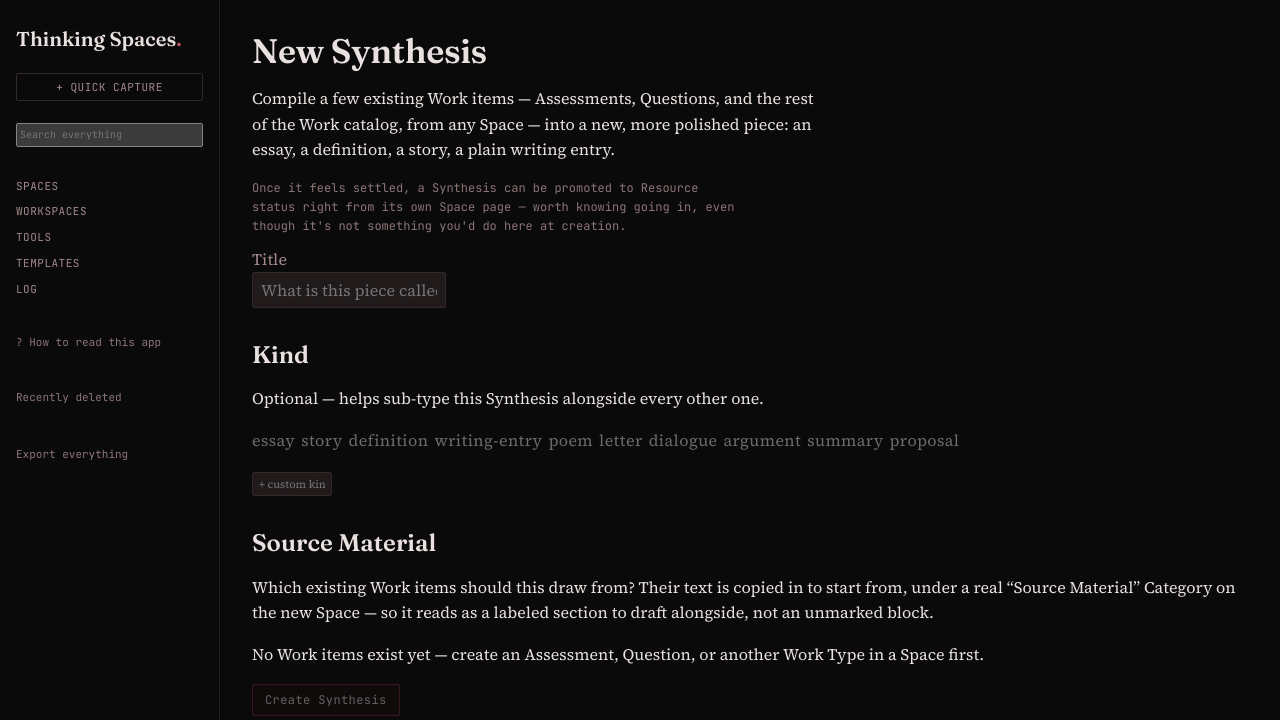
Test: CreateSynthesis: submitting › disables submit until a title is entered
Check: the button "Create Synthesis" is disabled, box [252,684,400,716]
Type "My Piece" into the field with placeholder "What is this piece called?" at (349, 290), box [252,272,446,308]
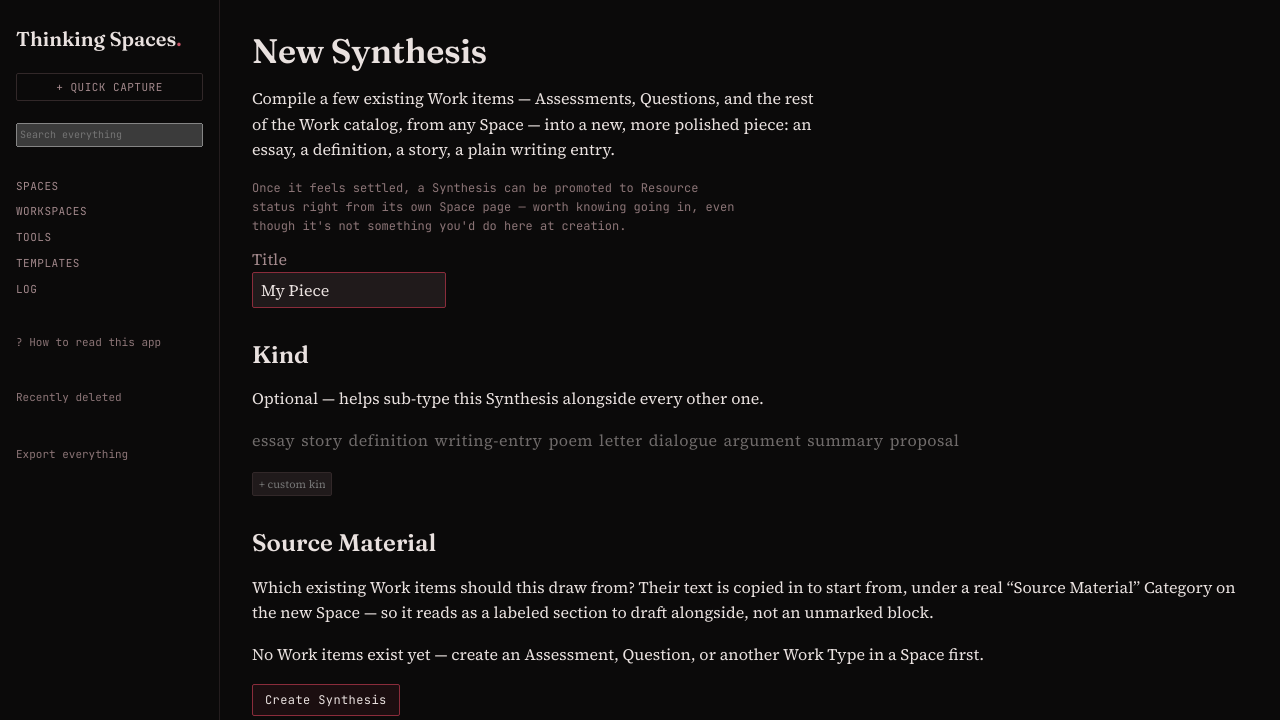
Check: the button "Create Synthesis" is enabled, box [252,684,400,716]
